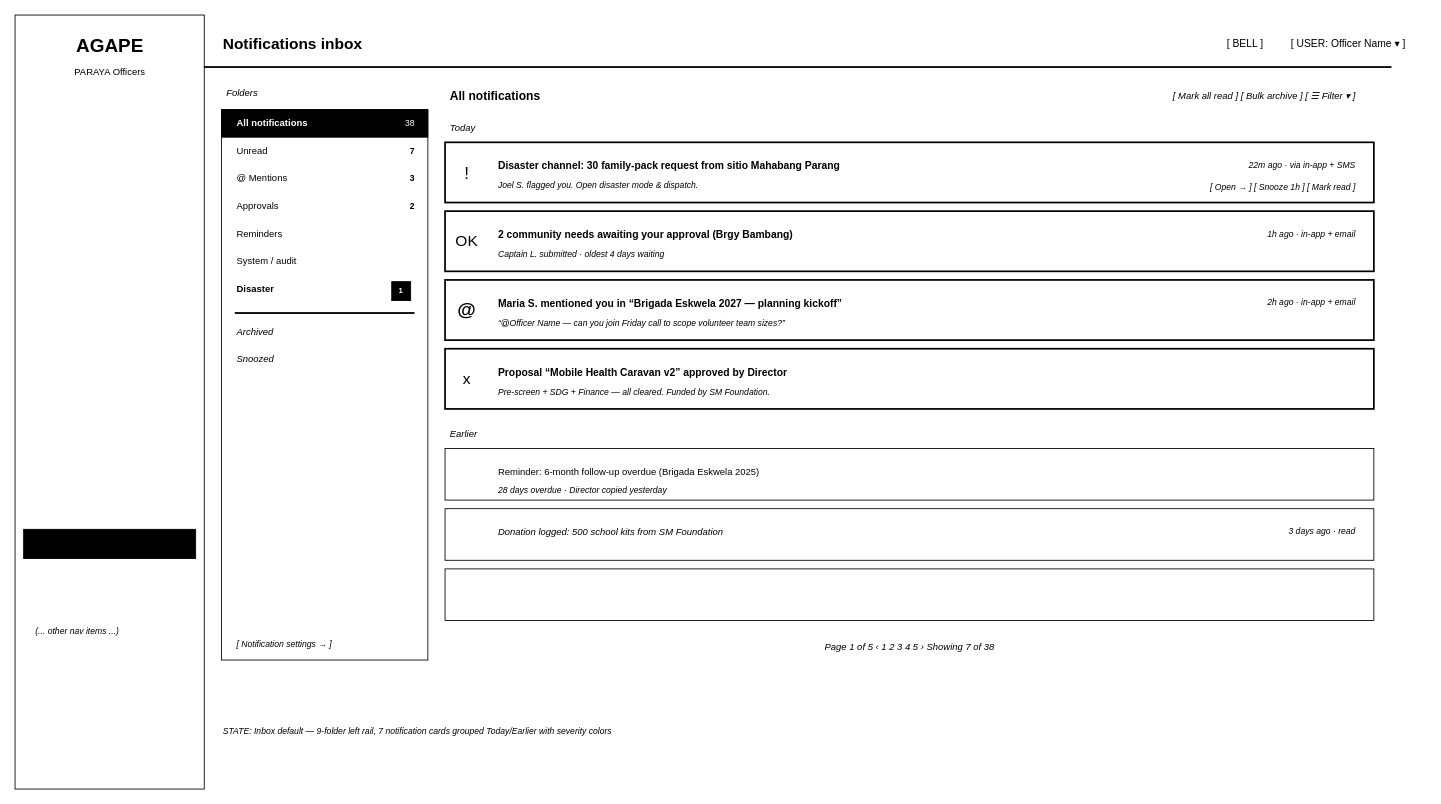
This 1441x804 diagram has some shape labels left out. Each missing label, with the centre of its shape:
"[x] Notifications" belongs at (x=109, y=543).
"System: monthly snapshot generated (April 2026)" belongs at (x=909, y=594).
